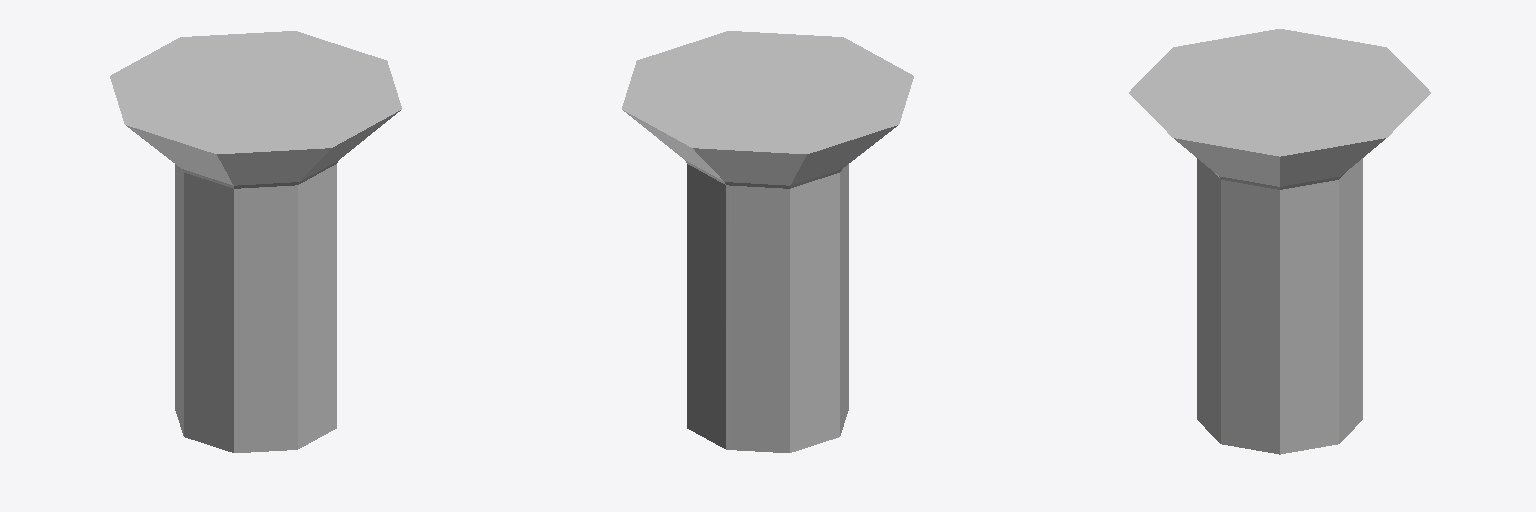
The model's file is 14_Columna.obj.
The picture shows the model from 3 angles: view 1: azimuth 30°, elevation 25°; view 2: azimuth 150°, elevation 25°; view 3: azimuth 270°, elevation 25°; orthographic projection.
Parts seen in each view (by area): view 1: 16818_carousel_v1.002; view 2: 16818_carousel_v1.002; view 3: 16818_carousel_v1.002.
Boxes of the visible parts, x1,y1,x2,y2 form: 16818_carousel_v1.002: [110, 31, 401, 452]; 16818_carousel_v1.002: [622, 31, 913, 452]; 16818_carousel_v1.002: [1129, 29, 1430, 454].
Size of the model in its own units: 2.02 by 2.4 by 2.02.